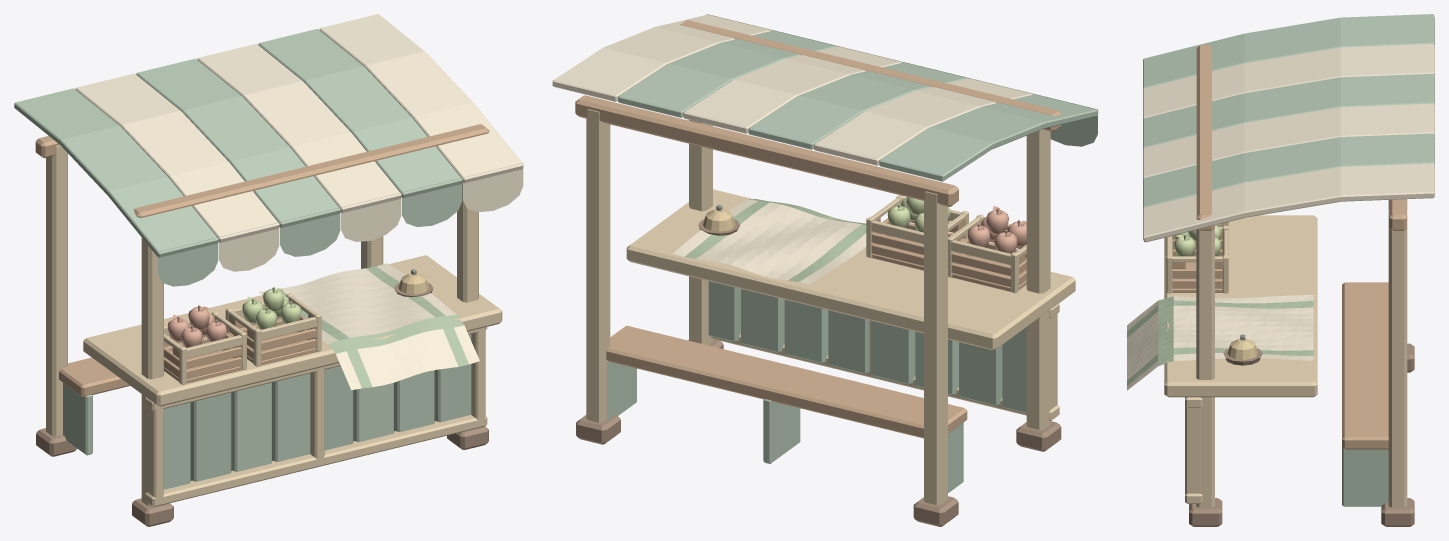
File: crafted-post-ready.glb
3 views of the same model, side by side, from view 1: azimuth 30°, elevation 25°; view 2: azimuth 150°, elevation 25°; view 3: azimuth 270°, elevation 25° (orthographic). The views are drawn at different scales.
Parts seen in each view (by area): view 1: countertop, post, counter-rail, canvas-band-2, canvas-band-17, canopy-rail-1, canvas-band-11, canvas-band-8, canvas-band-5, canvas-band-14, canvas-band-1, canvas-band-4 (+38 smaller); view 2: countertop, back-shelf, canopy-rail, post-2, post, post-1, canvas-band, canvas-band-12, canvas-band-3, canvas-band-6, canvas-band-9, canvas-band-15 (+35 smaller); view 3: countertop, back-shelf, post-2, post-3, canvas-band-16, canvas-band-15, canvas-band-17, canvas-band-4, canvas-band-1, canvas-band-7, canvas-band-10, canvas-band-13 (+18 smaller).
Boxes of the visible parts, <box> form: countertop: <box>83,255,502,406</box>; post: <box>46,145,67,436</box>; counter-rail: <box>145,415,487,506</box>; canvas-band-2: <box>108,177,218,257</box>; canvas-band-17: <box>413,102,523,183</box>; canopy-rail-1: <box>134,124,489,217</box>; canvas-band-11: <box>291,132,401,212</box>; canvas-band-8: <box>230,147,340,227</box>; canvas-band-5: <box>169,162,279,242</box>; canvas-band-14: <box>352,117,462,198</box>; canvas-band-1: <box>60,126,167,195</box>; canvas-band-4: <box>121,111,229,177</box>; countertop: <box>626,189,1075,350</box>; back-shelf: <box>606,325,967,438</box>; canopy-rail: <box>575,95,958,206</box>; post-2: <box>586,109,610,422</box>; post: <box>924,191,947,504</box>; post-1: <box>1026,129,1050,429</box>; canvas-band: <box>879,127,993,181</box>; canvas-band-12: <box>618,63,731,117</box>; canvas-band-3: <box>814,111,927,165</box>; canvas-band-6: <box>748,95,862,149</box>; canvas-band-9: <box>683,79,797,133</box>; canvas-band-15: <box>552,47,666,101</box>; countertop: <box>1164,215,1317,397</box>; back-shelf: <box>1342,282,1388,449</box>; post-2: <box>1388,210,1407,507</box>; post-3: <box>1196,225,1214,507</box>; canvas-band-16: <box>1244,167,1341,217</box>; canvas-band-15: <box>1340,163,1434,201</box>; canvas-band-17: <box>1143,183,1245,242</box>; canvas-band-4: <box>1244,47,1340,93</box>; canvas-band-1: <box>1244,17,1340,63</box>; canvas-band-7: <box>1244,77,1340,122</box>; canvas-band-10: <box>1244,107,1340,152</box>; canvas-band-13: <box>1244,137,1340,182</box>.
Bounding box in the file's own units: 2.16 × 1.92 × 1.57.
